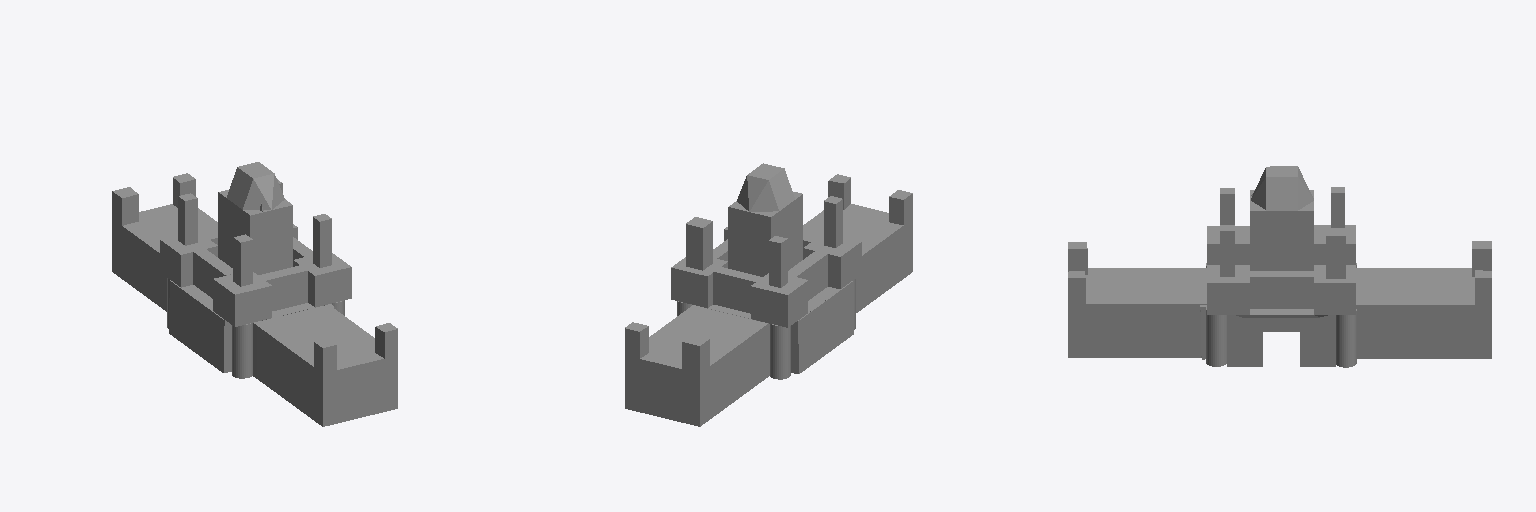
File: castillo2.obj
The picture shows the model from 3 angles: view 1: azimuth 30°, elevation 25°; view 2: azimuth 150°, elevation 25°; view 3: azimuth 270°, elevation 25°; orthographic projection.
Parts seen in each view (by area): view 1: Plano.001; view 2: Plano.001; view 3: Plano.001.
Part boxes in pixels (bbox=[...]): Plano.001: bbox=[112, 162, 397, 426]; Plano.001: bbox=[625, 163, 912, 426]; Plano.001: bbox=[1068, 166, 1491, 367].
Size of the model in its own units: 32.39 by 44.4 by 100.